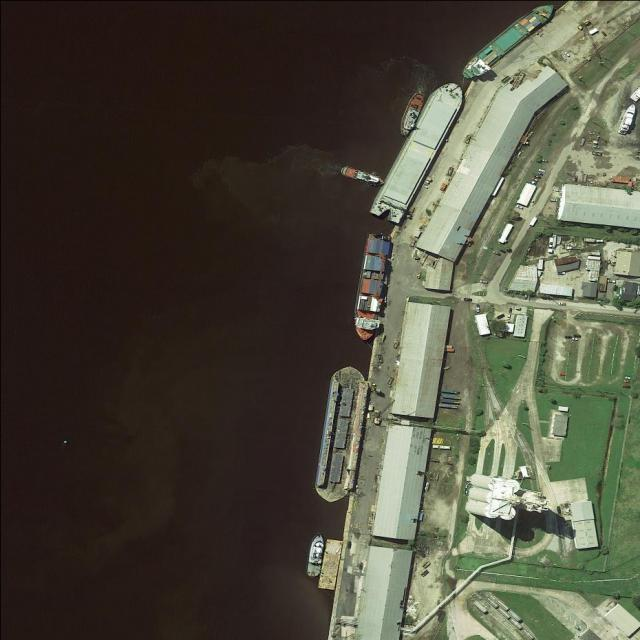Cargo: (458, 1, 556, 83)
Container Ship: (348, 231, 398, 344)
Other Ship: (395, 88, 428, 139), (339, 164, 387, 191), (303, 532, 327, 579)
RoRo: (359, 73, 475, 234)
